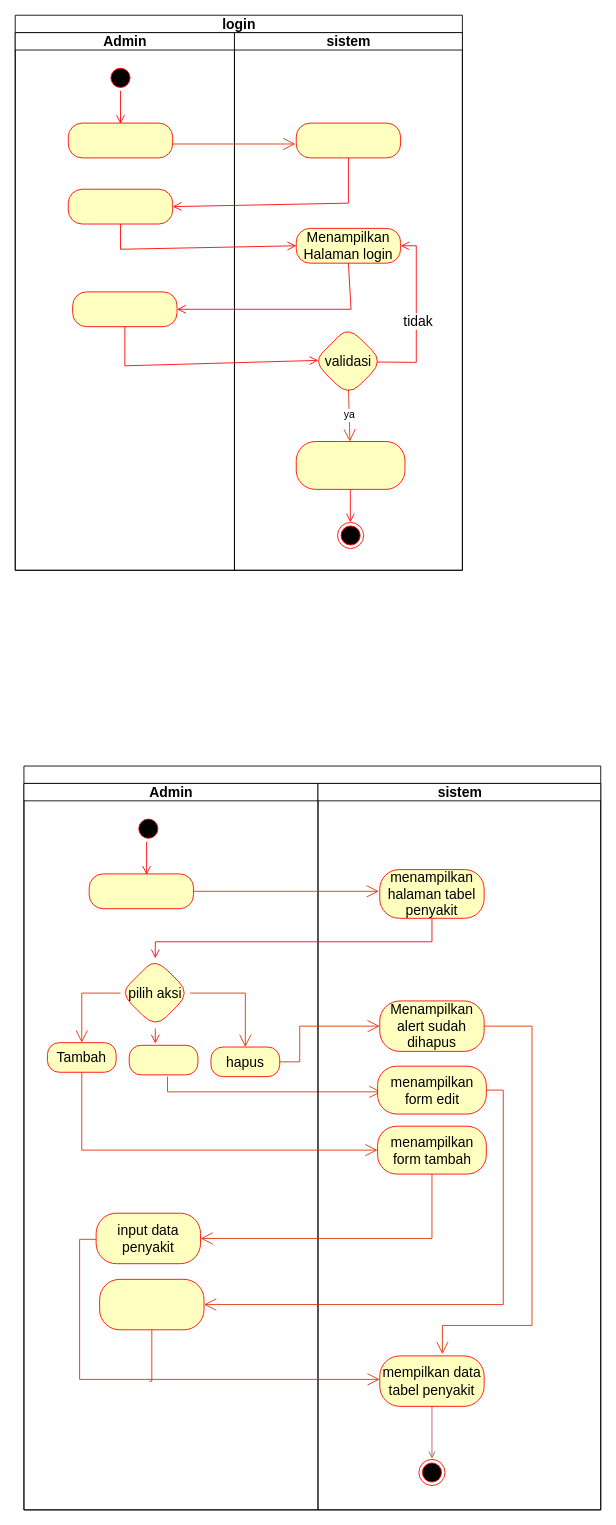
This 616x1525 diagram has some shape labels left out. Here are the shapes that lost their labels. From the top down, the box of each, then its label:
(67, 122, 173, 158): Buka Aplikasi
(295, 122, 401, 158): Menampilkan Halaman home
(67, 188, 173, 224): Pilih menu login
(72, 291, 177, 327): input email password
(295, 441, 405, 489): menampilkan halaman dashboard
(88, 873, 194, 909): memilih menu penyakit
(128, 1044, 198, 1075): edit
(99, 1278, 204, 1330): mengubah data penyakit
